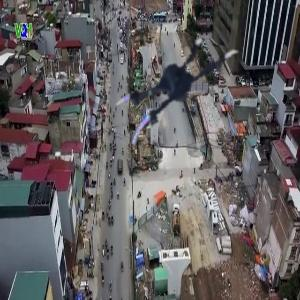drone: (112, 28, 253, 169)
